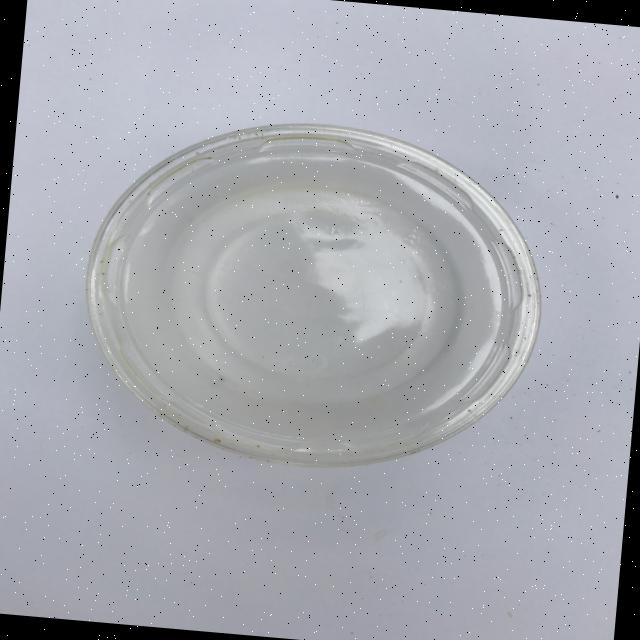plastic: (70, 103, 555, 486)
